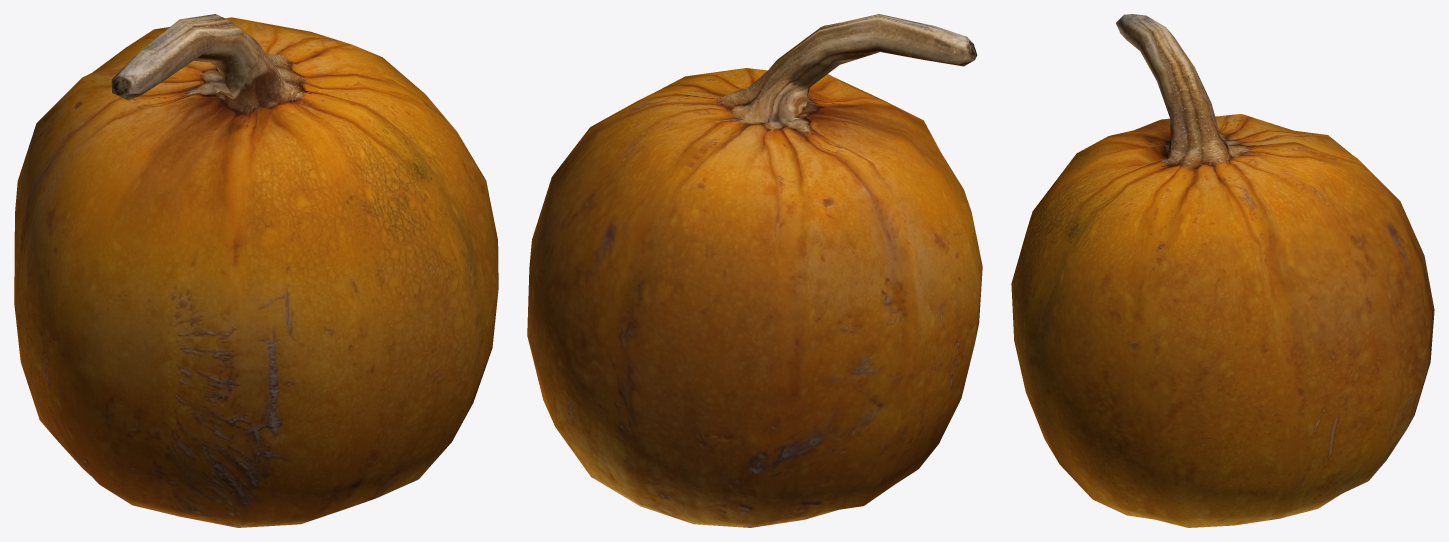
Rendered from A142_Pumpkin_low.fbx.
3 renders of one model, left to right at view 1: azimuth 30°, elevation 25°; view 2: azimuth 150°, elevation 25°; view 3: azimuth 270°, elevation 25°, orthographic. The views are drawn at different scales.
Visible parts, largest first — view 1: A142_Pumpkin_low; view 2: A142_Pumpkin_low; view 3: A142_Pumpkin_low.
Boxes of the visible parts, x1=… form: A142_Pumpkin_low: x1=14, y1=14, x2=498, y2=527; A142_Pumpkin_low: x1=527, y1=14, x2=982, y2=527; A142_Pumpkin_low: x1=1011, y1=14, x2=1434, y2=527.
Bounding box in the file's own units: 19.56 × 20.08 × 22.32.
1 material, 1 textured.
